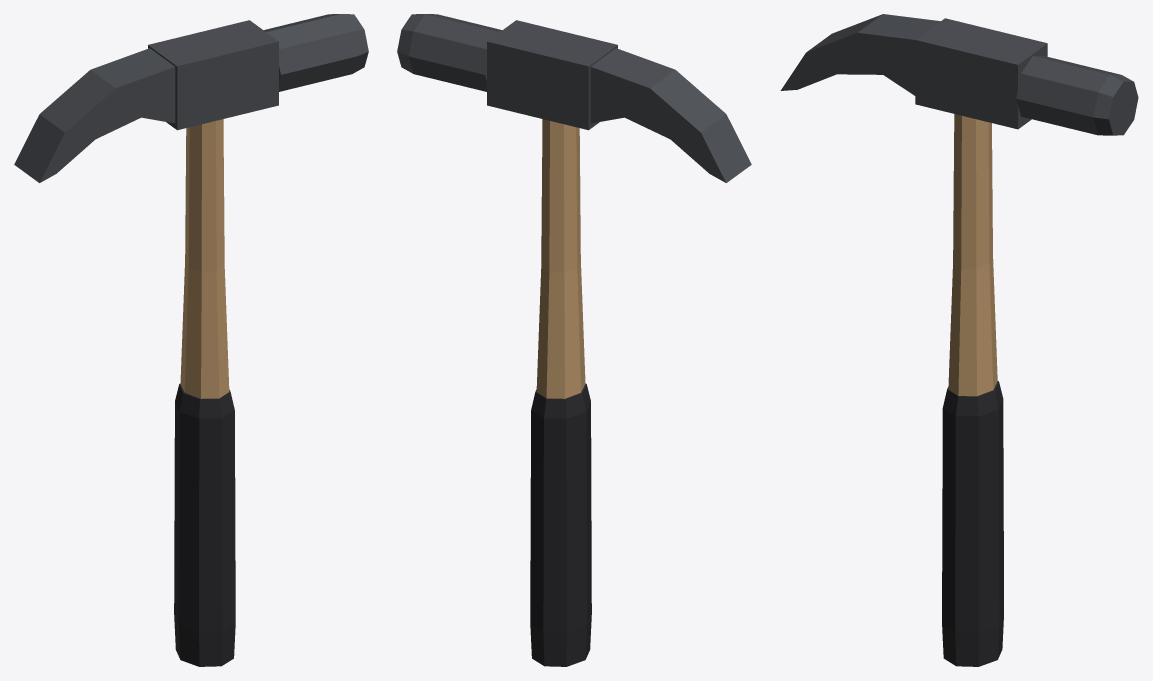
File: hammer.glb
3 views of the same model, side by side, from view 1: azimuth 30°, elevation 25°; view 2: azimuth 150°, elevation 25°; view 3: azimuth 330°, elevation 25° (orthographic).
Visible parts, largest first — view 1: hammer; view 2: hammer; view 3: hammer.
Part boxes in pixels (bbox=[...]): hammer: bbox=[14, 14, 368, 666]; hammer: bbox=[397, 14, 751, 666]; hammer: bbox=[780, 14, 1138, 666].
Size of the model in its own units: 0.193 by 0.343 by 0.036.
